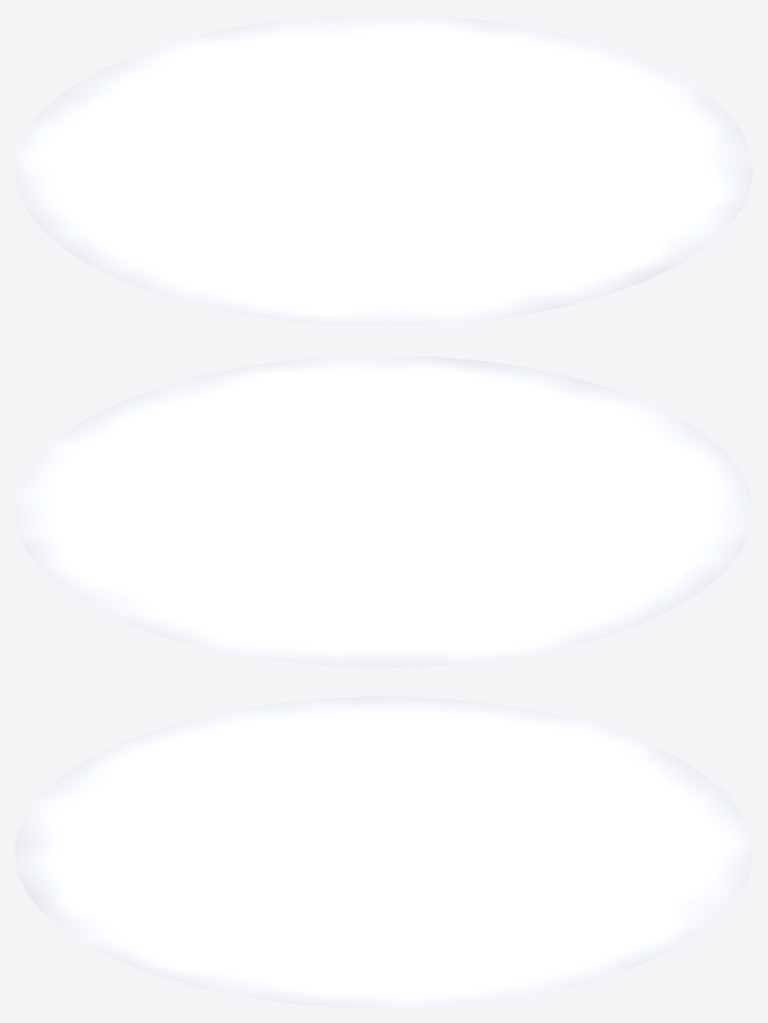
File: mm6_deco_barrel_liquid_white.glb
The picture shows the model from 3 angles, top to bottom: view 1: azimuth 30°, elevation 25°; view 2: azimuth 150°, elevation 25°; view 3: azimuth 270°, elevation 25°; orthographic projection.
Parts seen in each view (by area): view 1: Liquid; view 2: Liquid; view 3: Liquid.
Part boxes in pixels (box(x1,y1,x2,y2)): Liquid: box(14, 14, 753, 326); Liquid: box(14, 355, 753, 667); Liquid: box(14, 696, 753, 1008).
Bounding box in the file's own units: 0.529 × 0 × 0.529.
Materials: 1 (1 with a texture image).
